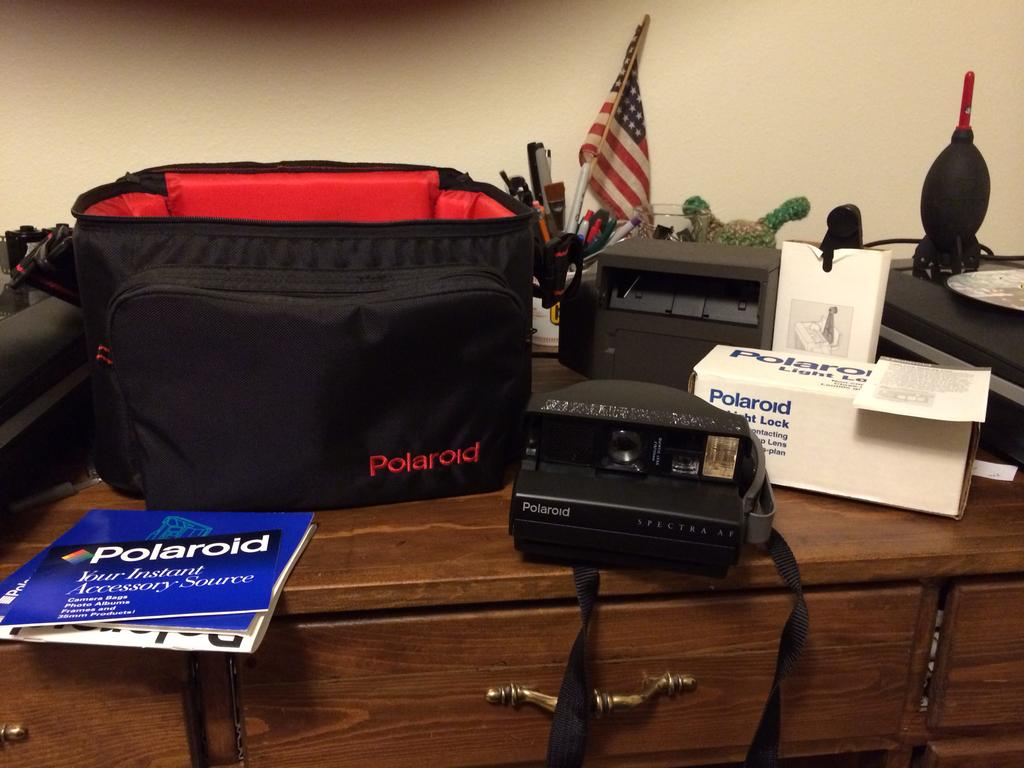Luggage-and-bags: (0, 162, 588, 513)
